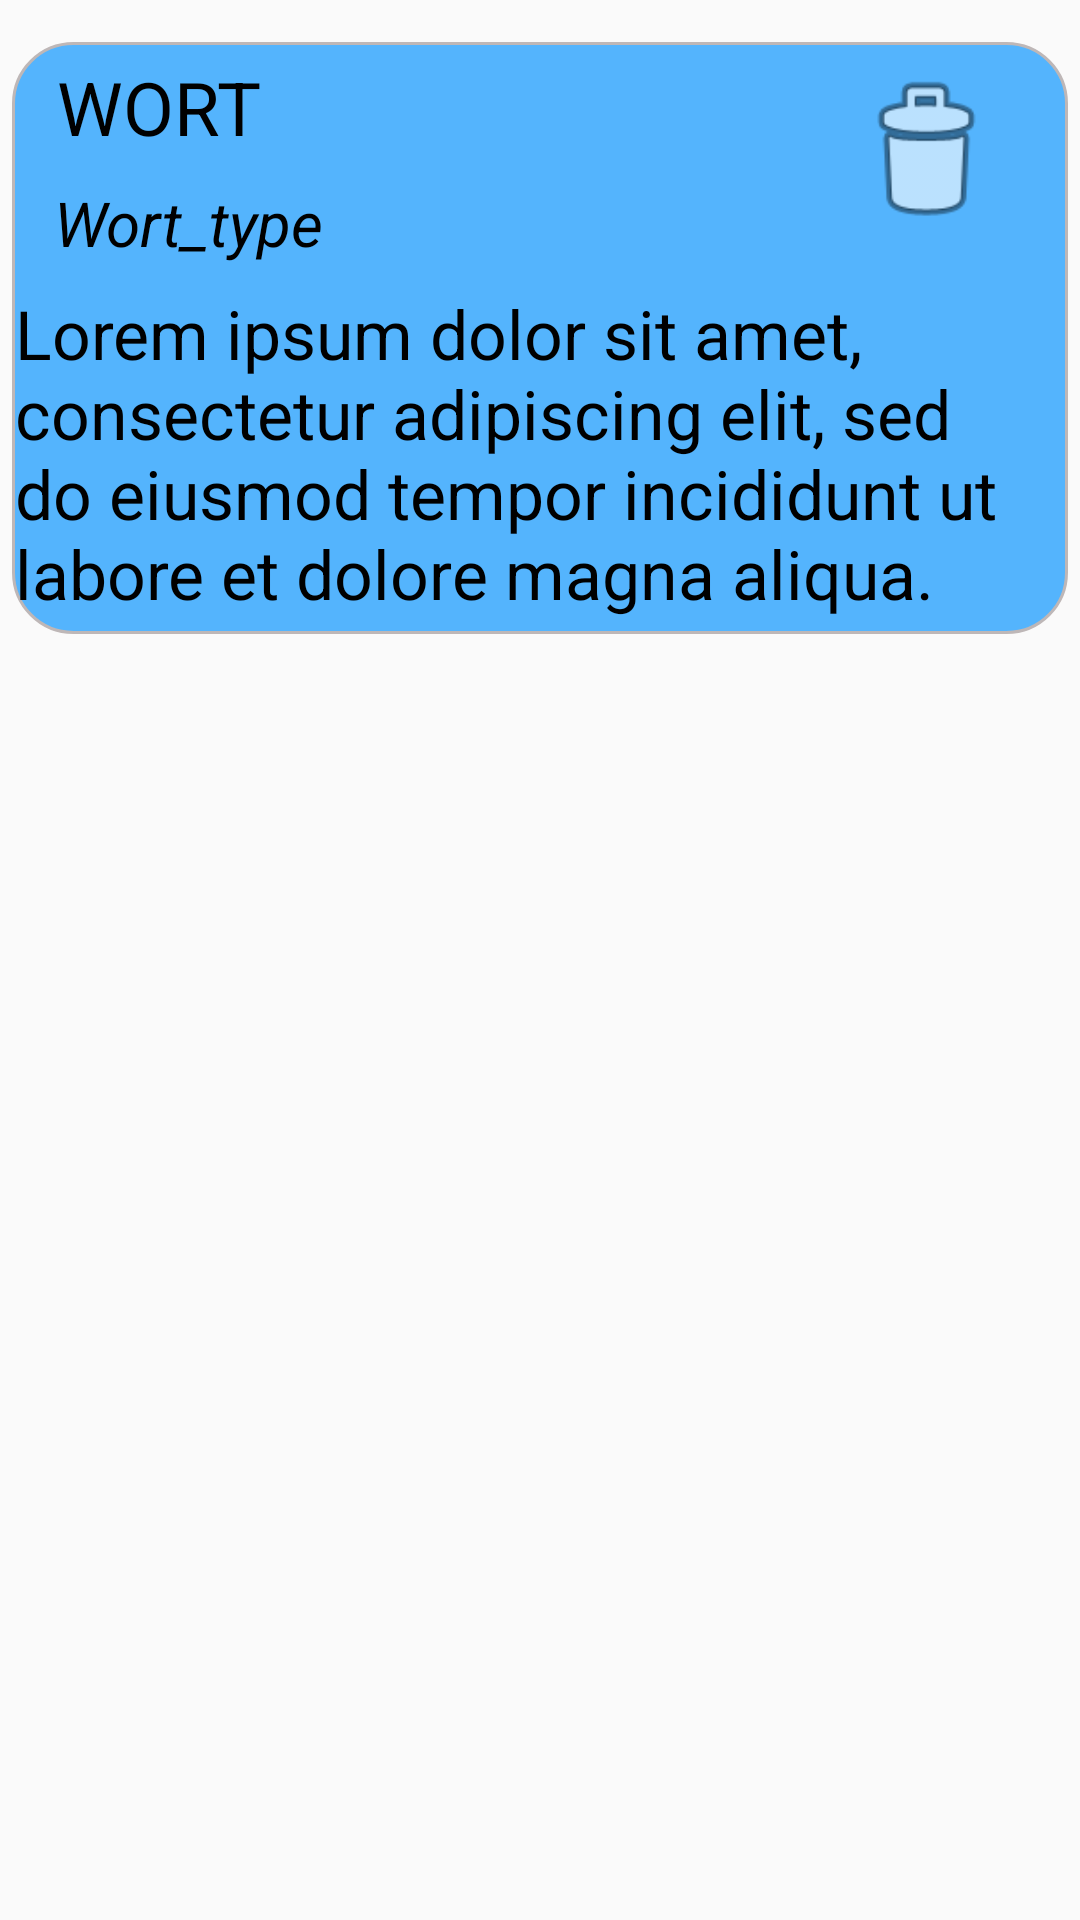

Locate icon controls on the screen. Image size 1080px×1920px, boxes as (x1, y1, x2, y2).
delete: (878, 82, 975, 216)
